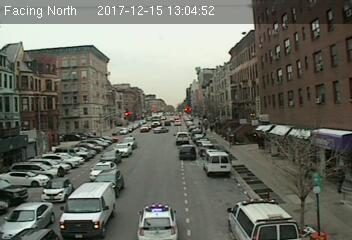car: (3, 201, 53, 236), (91, 168, 125, 196), (41, 178, 72, 202), (90, 161, 115, 180), (99, 149, 121, 163), (178, 145, 196, 161), (113, 141, 132, 156), (174, 132, 191, 144)
police: (225, 199, 300, 240), (135, 203, 180, 239)
truck: (60, 182, 115, 240), (204, 151, 231, 175)
